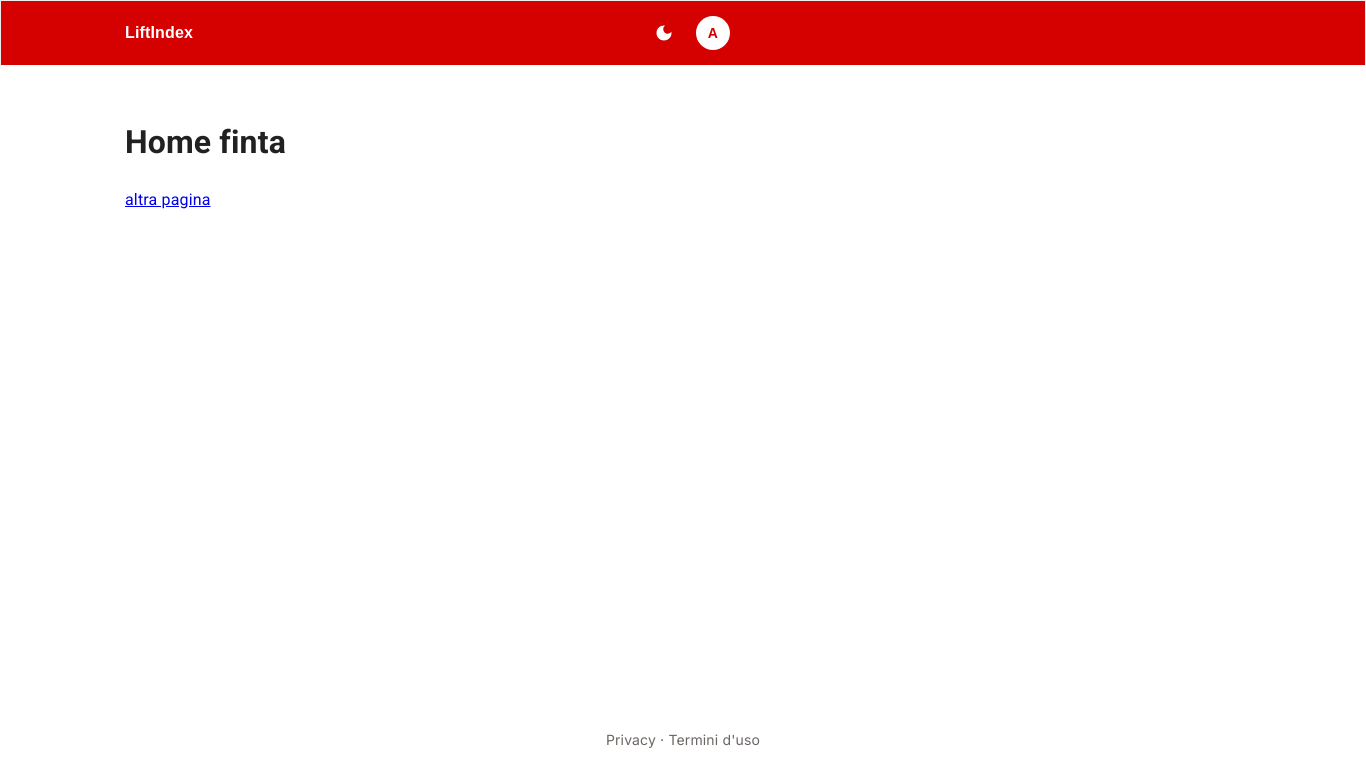
it: Layout con l'apertura rossa › uscendo dalla pagina (anche con il tasto indietro) la barra torna neutra
Click the link "altra pagina": (168, 199) [125,190,210,209]
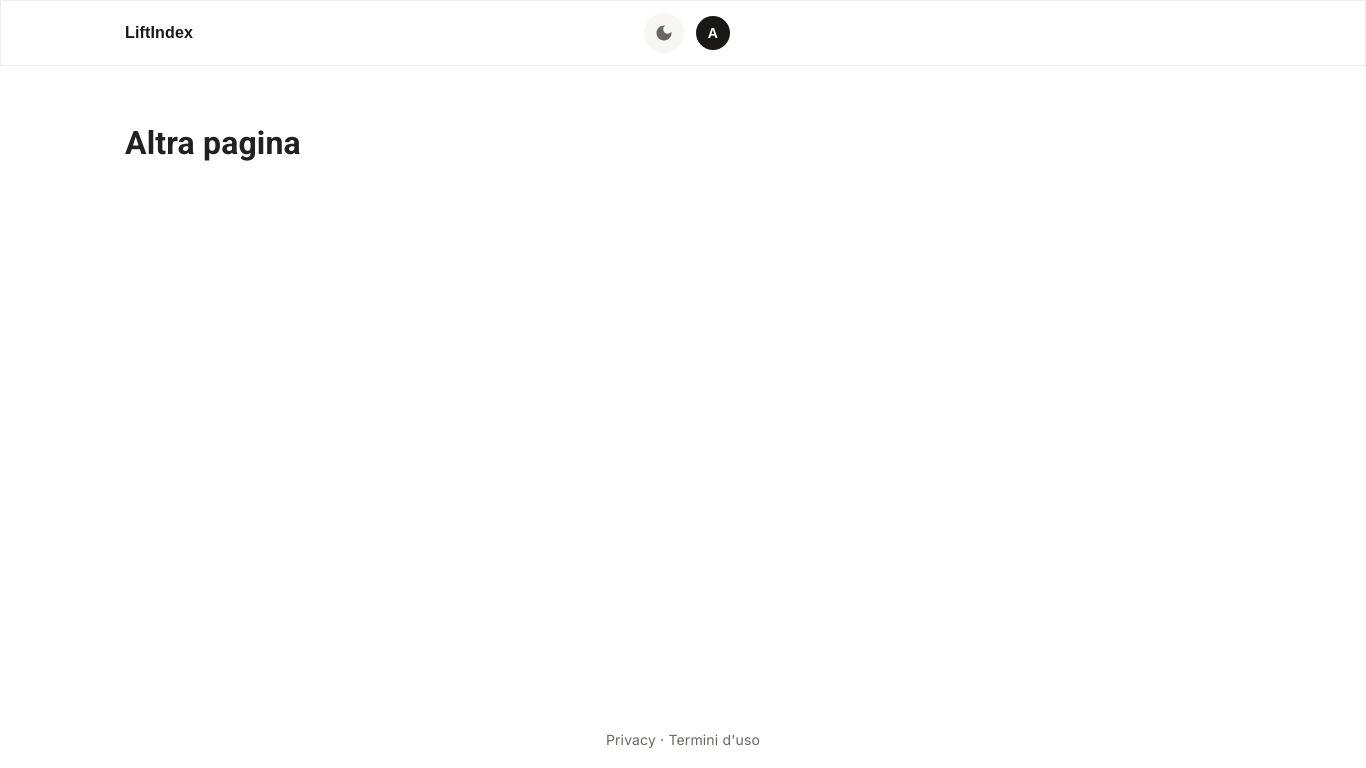
Expected: the heading "Altra pagina" is shown, [125,124,301,162]
